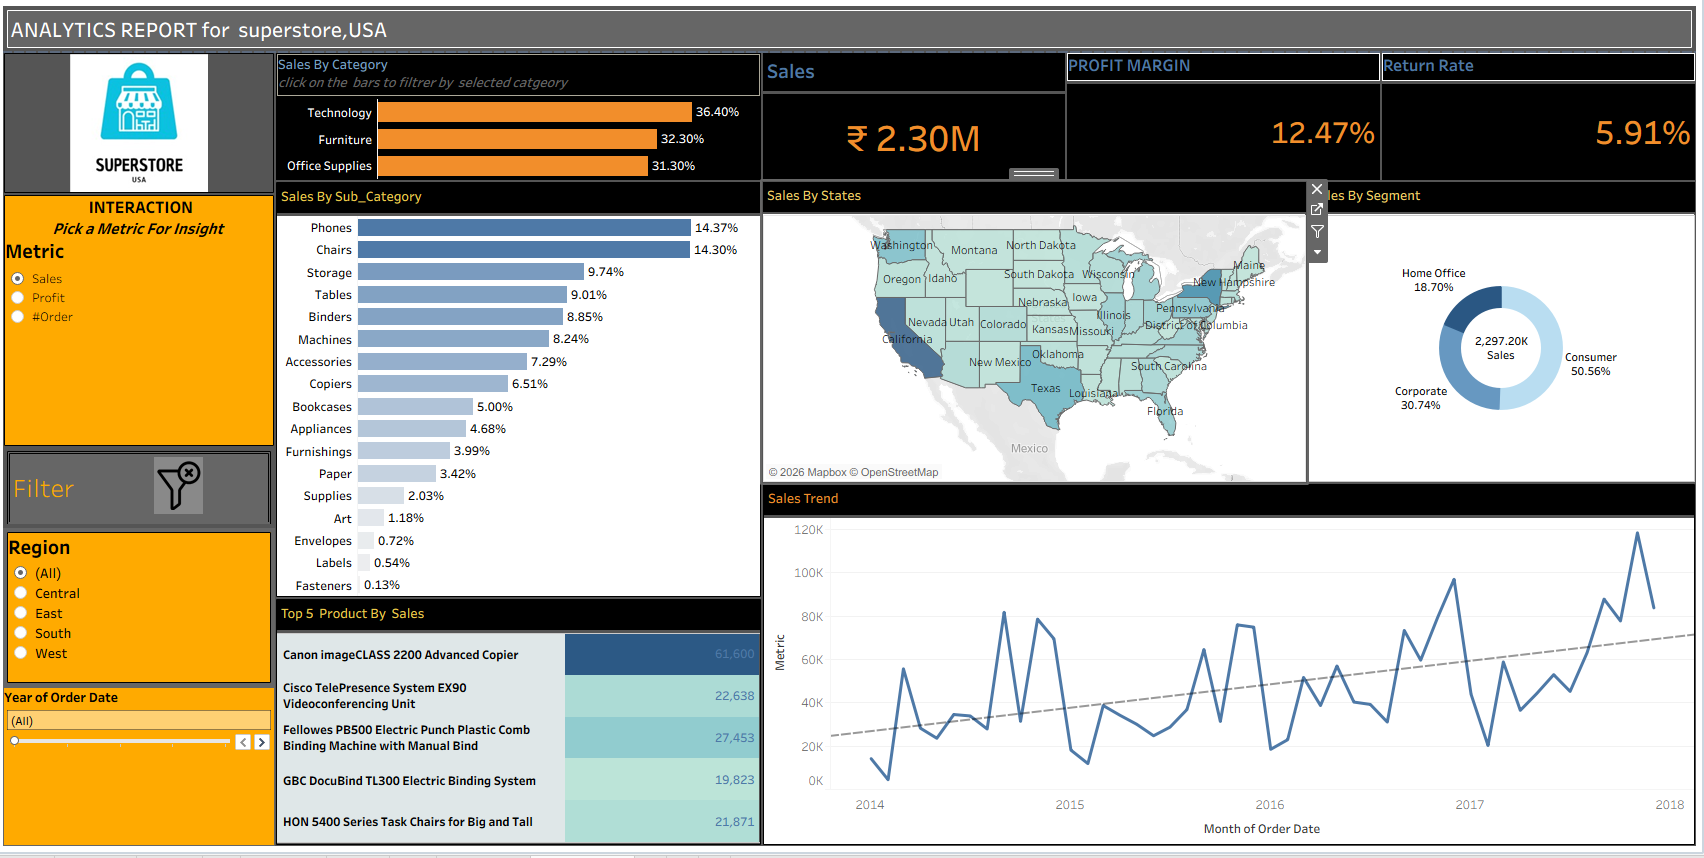

The dashboard page shown, as its layout file describes it:
{"tool":"tableau","page":{"name":"Dashboard 1","canvas":[1000,1000],"units":"permille","ordinal":0},"visuals":[{"type":"text","box":[4.7,9.3,990.6,53.7]},{"type":"image","param":"Image/Picture1.jpg","box":[4.7,63.1,159.1,165.6]},{"type":"worksheet","title":"Category","mark":"Automatic","rows":["Category"],"cols":["Calculation_400257479399202817"],"box":[163.8,63.1,284.9,151.3]},{"type":"worksheet","title":"Metric","mark":"Automatic","box":[448.7,63.1,177.9,151.3]},{"type":"worksheet","title":"Profit Margin","mark":"Automatic","box":[626.6,63.1,184.3,151.3]},{"type":"worksheet","title":"Return Rate","mark":"Automatic","box":[810.9,63.1,184.4,151.3]},{"type":"worksheet","title":"Subcatgeory","mark":"Automatic","rows":["Sub-Category"],"cols":["Calculation_400257479399202817"],"box":[163.8,214.4,284.9,487]},{"type":"worksheet","title":"map","mark":"Automatic","box":[448.7,214.4,319,352.2]},{"type":"worksheet","title":"segment","mark":"Pie","rows":["Calculation_1622703303311437824","Calculation_1622703303311437824"],"box":[767.7,214.4,227.6,352.2]},{"type":"parameter","param":"[Parameters].[Parameter 1]","box":[4.7,228.7,159.1,295.4]},{"type":"text","box":[7.6,530,153.2,83.8]},{"type":"dashboard-object","box":[92.8,536.2,28.8,66.6]},{"type":"worksheet","title":"Trend","mark":"Line","rows":["Calculation_400257479399202817"],"cols":["Order Date"],"box":[448.7,566.6,546.6,424.1]},{"type":"filter","title":"Metric","param":"[federated.0n7qzn2079070m1712iez1hpa2uj].[none:Region:nk]","box":[4.7,619.6,159.1,185.5]},{"type":"worksheet","title":"Top 5 product","mark":"Square","rows":["Product Name"],"box":[163.8,701.4,284.9,289.3]},{"type":"filter","title":"Metric","param":"[federated.0n7qzn2079070m1712iez1hpa2uj].[yr:Order Date:ok]","box":[4.7,805.1,159.1,185.5]}]}

Visuals, with their boxes on the dashboard's canvas, which has no fixed pixel size, in thousandths of its width and height (x1, y1, x2, y2). These are canvas units, not pixel positions in the 1704x858 screenshot, which may show the page scaled, cropped or inside an application window:
text: [5,9,995,63]
image: [5,63,164,229]
"Category" worksheet: [164,63,449,214]
"Metric" worksheet: [449,63,627,214]
"Profit Margin" worksheet: [627,63,811,214]
"Return Rate" worksheet: [811,63,995,214]
"Subcatgeory" worksheet: [164,214,449,701]
"map" worksheet: [449,214,768,567]
"segment" worksheet (Pie marks): [768,214,995,567]
parameter: [5,229,164,524]
text: [8,530,161,614]
dashboard-object: [93,536,122,603]
"Trend" worksheet (Line marks): [449,567,995,991]
"Metric" filter: [5,620,164,805]
"Top 5 product" worksheet (Square marks): [164,701,449,991]
"Metric" filter: [5,805,164,991]
